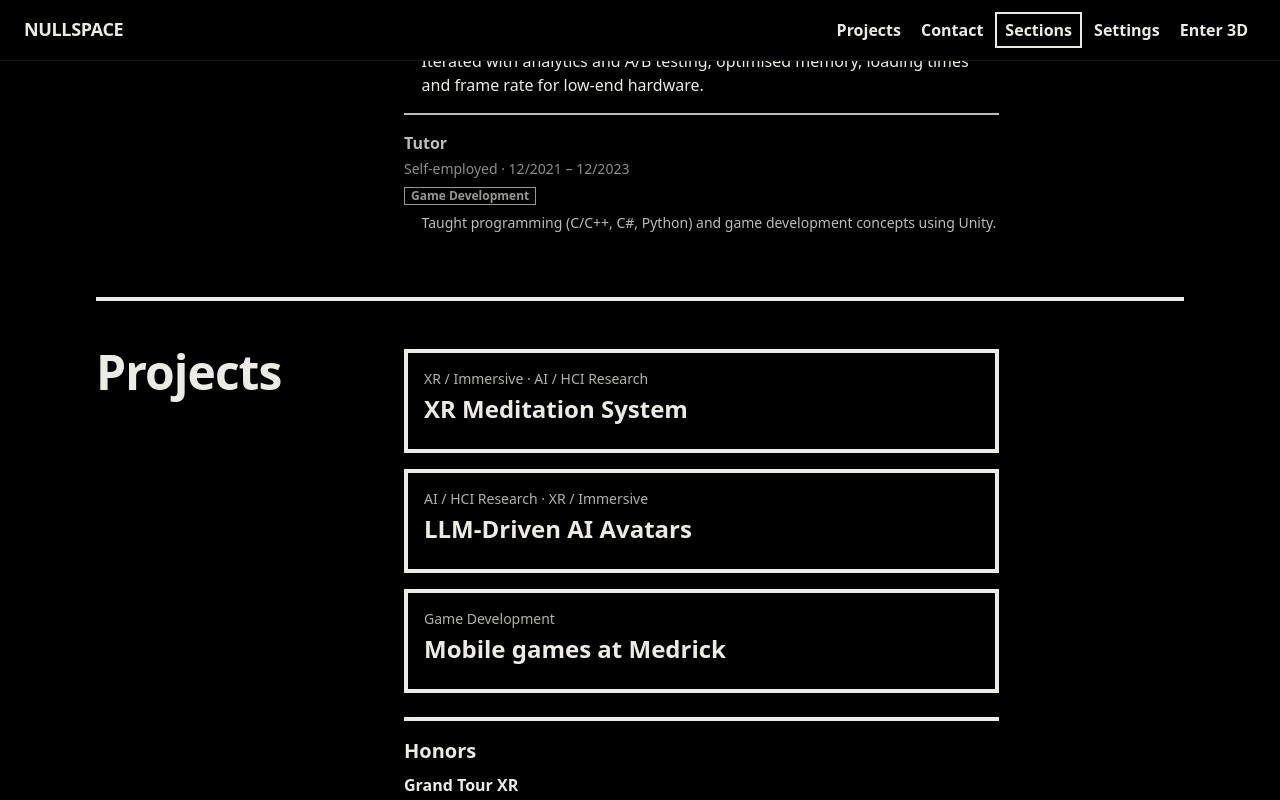
Test: App › a portfolio project card opens its detail in the panel
(page scrolled)
What coordinates should you click on to do the following:
click the button with aria-label "open project"
I would click on:
 (536, 378)
Its box is [404,349,999,453].
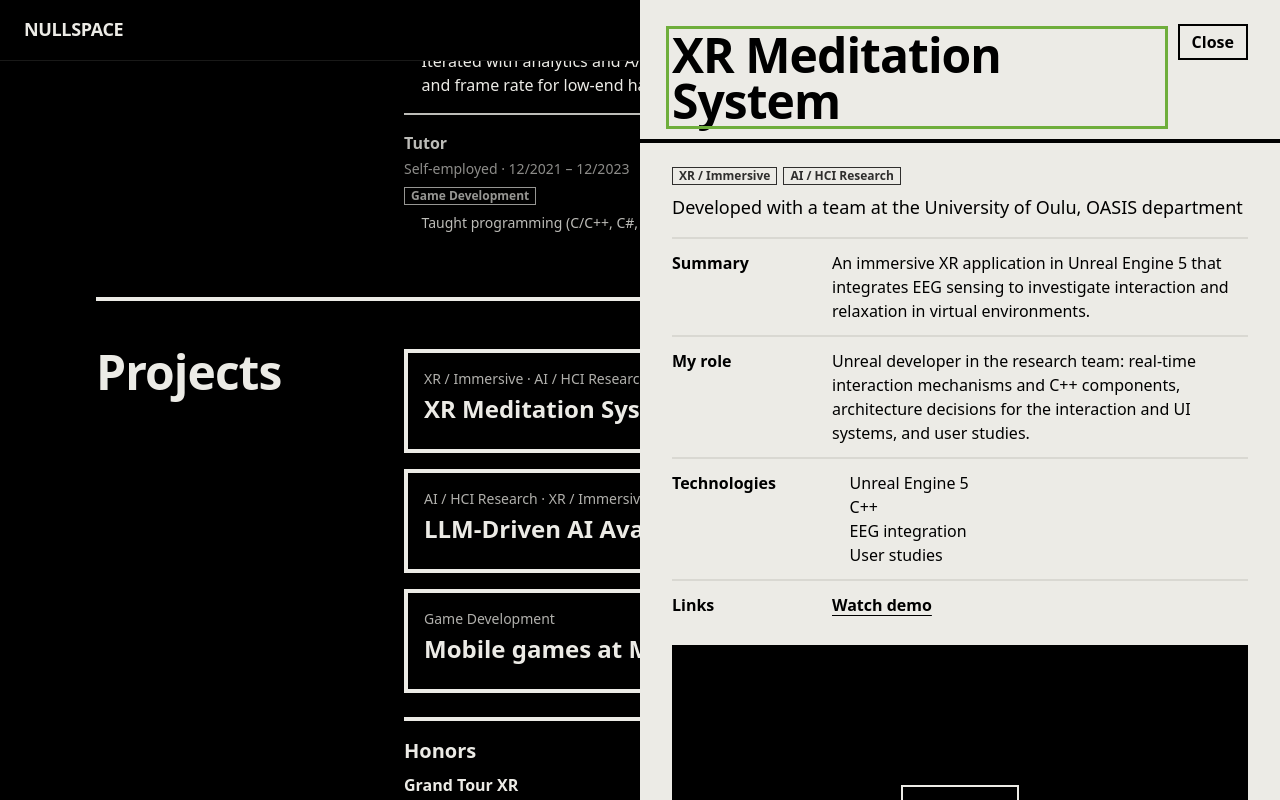
Result: the dialog "XR Meditation System" is shown at [640,0,1279,799]
